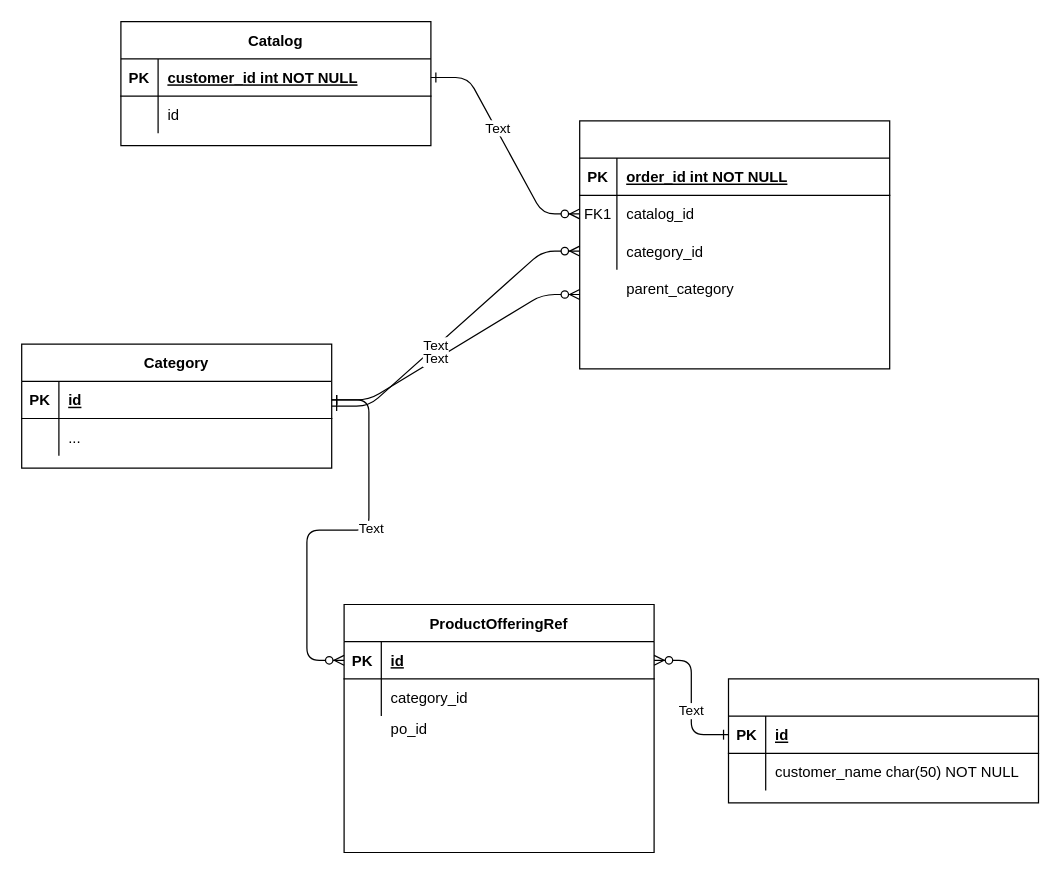
The diagram is 1060 pixels wide and 874 high, and some of its shapes have lost their labels. Here are the shapes that lost their labels. From the top down, the box of each, then its label:
(578, 120, 890, 369): CategoryRef
(727, 678, 1038, 803): ProductOffering
